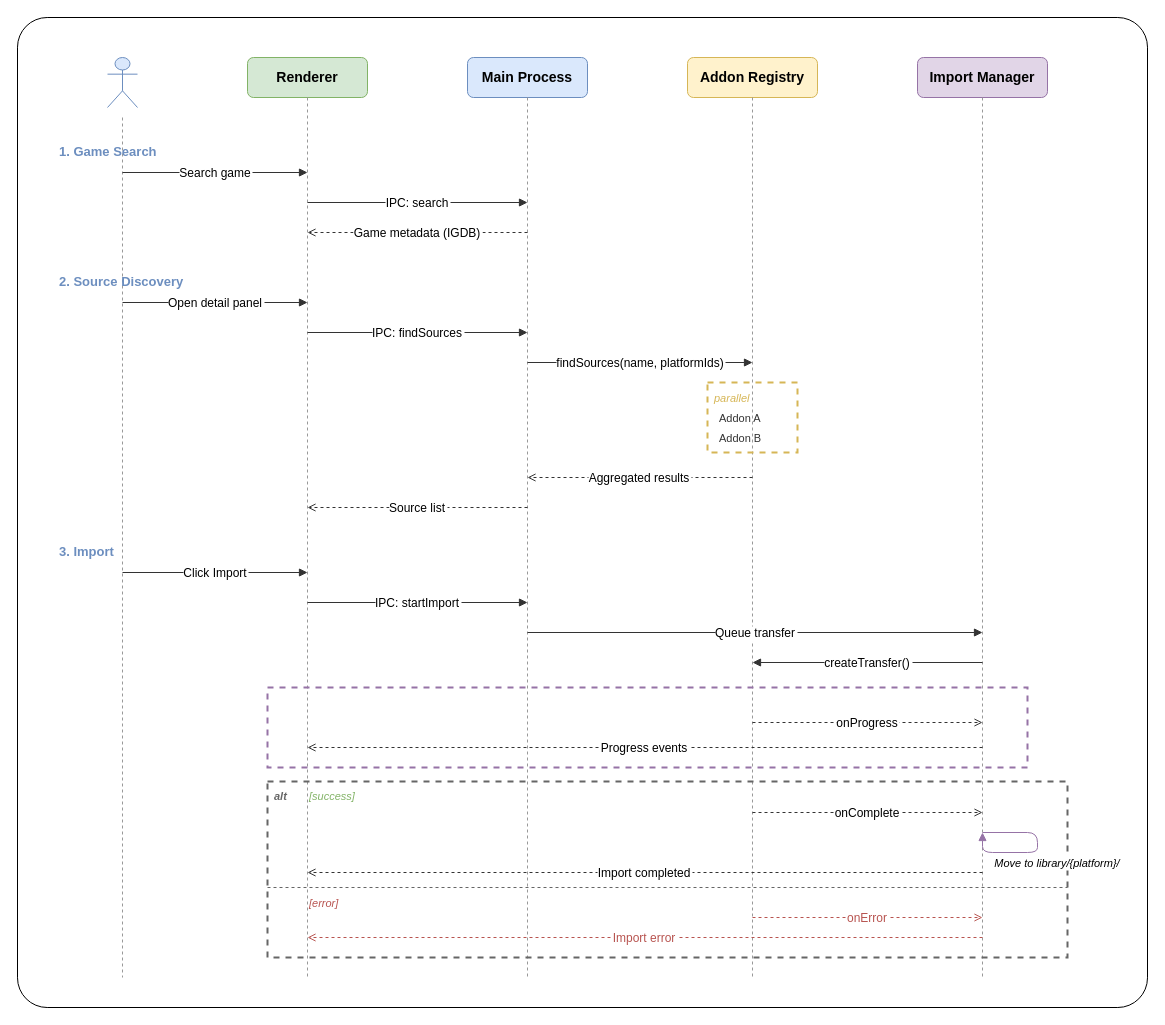
This 1165x1025 diagram has some shape labels left out. Each missing label, with the box of its shape:
loop [progress]: (266, 686, 1028, 768)
User: (106, 56, 138, 108)
